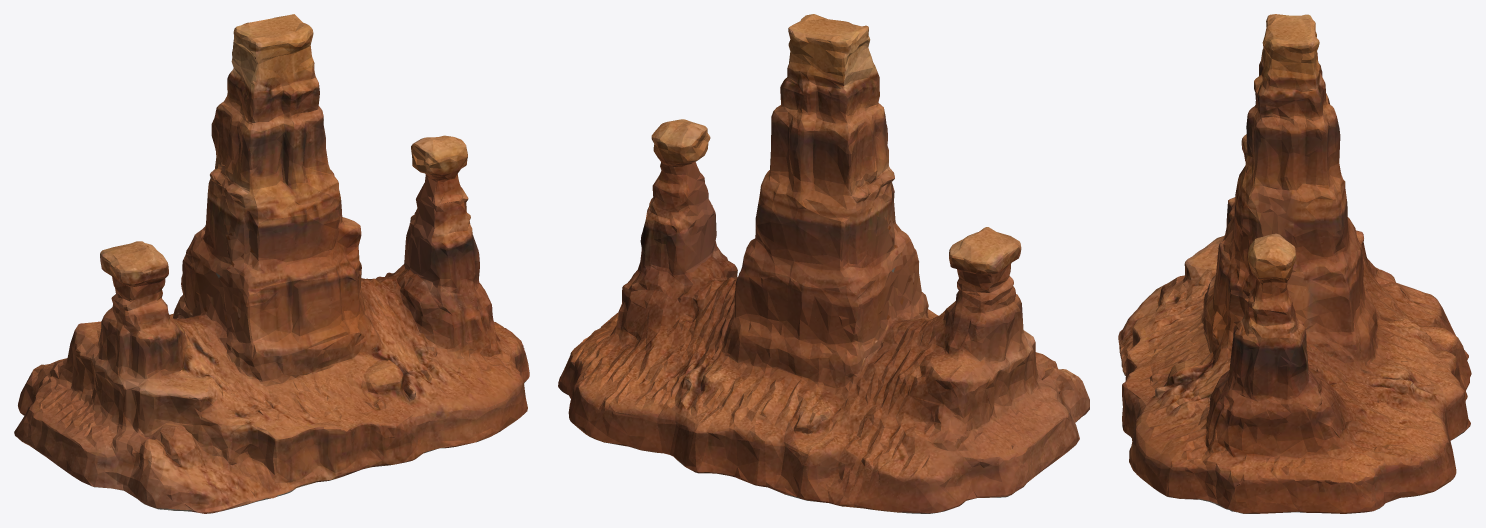
The model's file is mesa-spire.glb.
The picture shows the model from 3 angles, left to right: view 1: azimuth 30°, elevation 25°; view 2: azimuth 150°, elevation 25°; view 3: azimuth 270°, elevation 25°; orthographic projection. The views are drawn at different scales.
Parts seen in each view (by area): view 1: tmp5a9zn81u.ply; view 2: tmp5a9zn81u.ply; view 3: tmp5a9zn81u.ply.
Part boxes in pixels (<box>): tmp5a9zn81u.ply: <box>14,14,529,513</box>; tmp5a9zn81u.ply: <box>558,14,1089,513</box>; tmp5a9zn81u.ply: <box>1118,14,1471,513</box>.
Size of the model in its own units: 1.99 by 1.62 by 1.36.
Materials: 1 (1 with a texture image).
